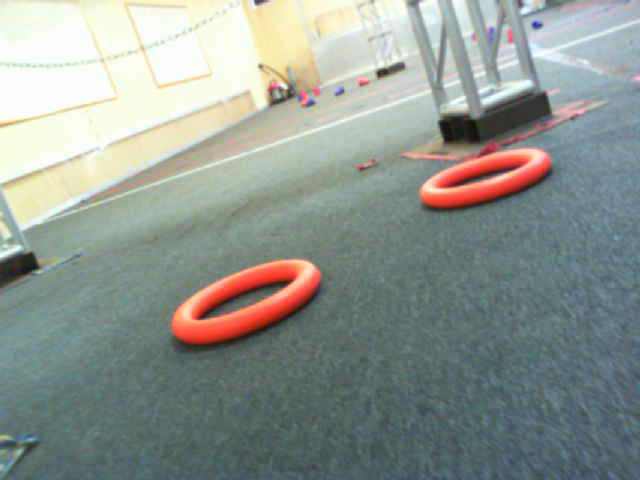Note: (178, 256, 330, 360), (424, 155, 558, 216)
